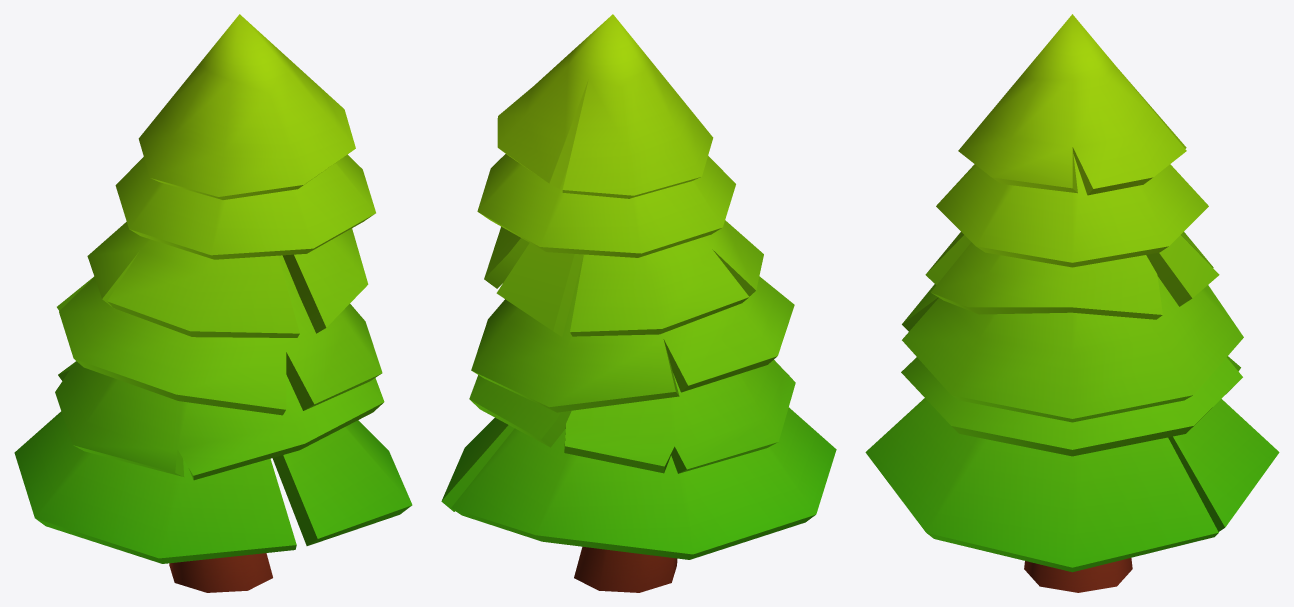
File: tree-4.glb
The picture shows the model from 3 angles, left to right: view 1: azimuth 30°, elevation 25°; view 2: azimuth 150°, elevation 25°; view 3: azimuth 270°, elevation 25°; orthographic projection. The views are drawn at different scales.
Visible parts, largest first — view 1: 04-tree-root_gradinet-image-texure_0; view 2: 04-tree-root_gradinet-image-texure_0; view 3: 04-tree-root_gradinet-image-texure_0.
Part boxes in pixels (<box>): 04-tree-root_gradinet-image-texure_0: <box>14,14,412,592</box>; 04-tree-root_gradinet-image-texure_0: <box>441,14,836,592</box>; 04-tree-root_gradinet-image-texure_0: <box>865,14,1279,592</box>.
Size of the model in its own units: 6.81 by 10.23 by 6.81.
1 material, 1 textured.
